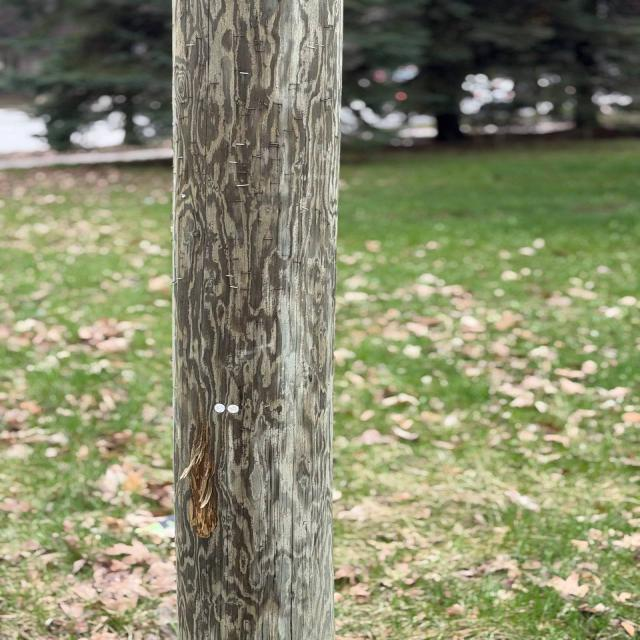Electrical Pole: (170, 0, 358, 640)
